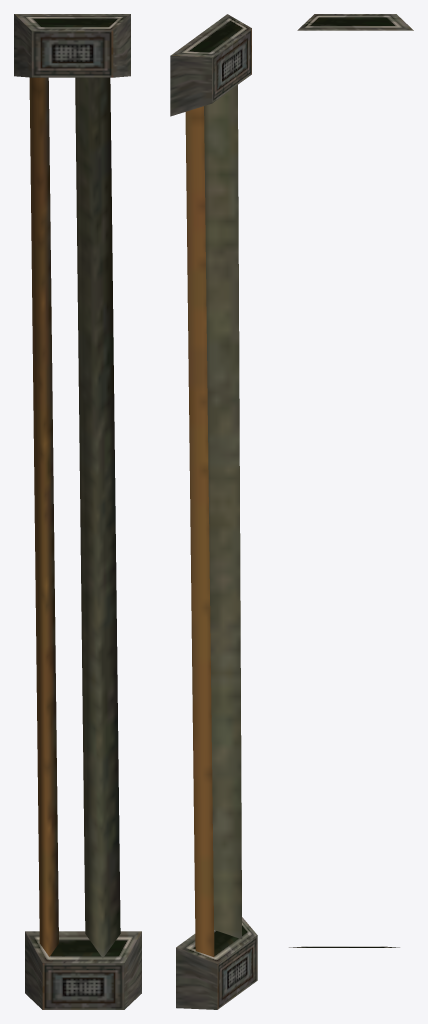
File: M12_TopPipes_Vertical.glb
3 views of the same model, side by side, from view 1: azimuth 90°, elevation 25°; view 2: azimuth 150°, elevation 25°; view 3: azimuth 270°, elevation 25° (orthographic). The views are drawn at different scales.
Parts seen in each view (by area): view 1: M12_TOPPIPES_VERTICAL; view 2: M12_TOPPIPES_VERTICAL; view 3: M12_TOPPIPES_VERTICAL.
Part boxes in pixels (left/top/right/bottom): M12_TOPPIPES_VERTICAL: left=14, top=14, right=141, bottom=1009; M12_TOPPIPES_VERTICAL: left=170, top=14, right=257, bottom=1009; M12_TOPPIPES_VERTICAL: left=289, top=14, right=413, bottom=947.
Bounding box in the file's own units: 0.11 × 3.04 × 0.359.
Materials: 1 (1 with a texture image).
